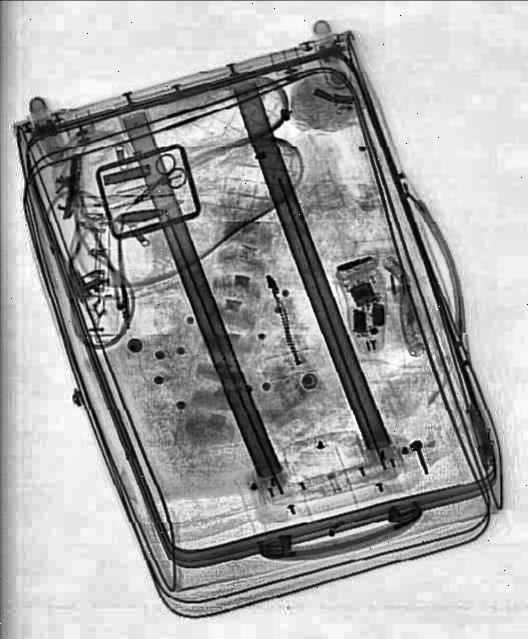Scissors: (114, 149, 189, 223)
